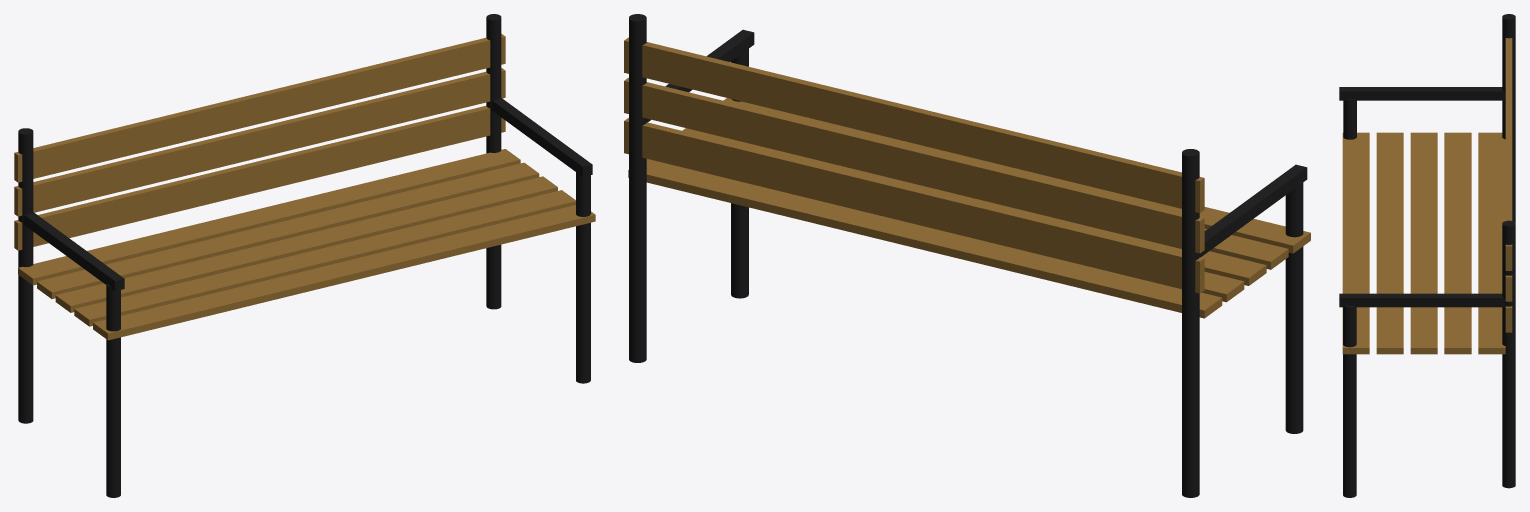
The model's file is state-default.glb.
3 views of the same model, side by side, from view 1: azimuth 30°, elevation 25°; view 2: azimuth 150°, elevation 25°; view 3: azimuth 270°, elevation 25° (orthographic). The views are drawn at different scales.
Parts seen in each view (by area): view 1: assetPrim:7c166d4a7b1fa-19c73e6b7ae:teak-slat-back-3, assetPrim:7c166d4a7b1fa-19c73e6b7ae:teak-slat-back-2, assetPrim:7c166d4a7b1fa-19c73e6b7ae:teak-slat-back-1, assetPrim:7c166d4a7b1fa-19c73e6b7ae:teak-slat-seat-1, assetPrim:7c166d4a7b1fa-19c73e6b7ae:teak-slat-seat-2, assetPrim:7c166d4a7b1fa-19c73e6b7ae:teak-slat-seat-3, assetPrim:7c166d4a7b1fa-19c73e6b7ae:teak-slat-seat-4, assetPrim:7c166d4a7b1fa-19c73e6b7ae:teak-slat-seat-5, assetPrim:7c166d4a7b1fa-19c73e6b7ae:iron-leg-bl, assetPrim:7c166d4a7b1fa-19c73e6b7ae:iron-leg-fl, assetPrim:7c166d4a7b1fa-19c73e6b7ae:bc2a76782b32a8-19c6fa116, assetPrim:7c166d4a7b1fa-19c73e6b7ae:iron-leg-br (+2 smaller); view 2: assetPrim:7c166d4a7b1fa-19c73e6b7ae:teak-slat-back-1, assetPrim:7c166d4a7b1fa-19c73e6b7ae:teak-slat-back-2, assetPrim:7c166d4a7b1fa-19c73e6b7ae:teak-slat-back-3, assetPrim:7c166d4a7b1fa-19c73e6b7ae:teak-slat-seat-5, assetPrim:7c166d4a7b1fa-19c73e6b7ae:iron-leg-br, assetPrim:7c166d4a7b1fa-19c73e6b7ae:iron-leg-bl, assetPrim:7c166d4a7b1fa-19c73e6b7ae:iron-leg-fl, assetPrim:7c166d4a7b1fa-19c73e6b7ae:teak-slat-seat-1, assetPrim:7c166d4a7b1fa-19c73e6b7ae:teak-slat-seat-3, assetPrim:7c166d4a7b1fa-19c73e6b7ae:armrest-l, assetPrim:7c166d4a7b1fa-19c73e6b7ae:bc2a76782b32a8-19c6fa116, assetPrim:7c166d4a7b1fa-19c73e6b7ae:teak-slat-seat-2 (+2 smaller); view 3: assetPrim:7c166d4a7b1fa-19c73e6b7ae:teak-slat-seat-4, assetPrim:7c166d4a7b1fa-19c73e6b7ae:teak-slat-seat-2, assetPrim:7c166d4a7b1fa-19c73e6b7ae:teak-slat-seat-3, assetPrim:7c166d4a7b1fa-19c73e6b7ae:teak-slat-seat-5, assetPrim:7c166d4a7b1fa-19c73e6b7ae:teak-slat-seat-1, assetPrim:7c166d4a7b1fa-19c73e6b7ae:iron-leg-br, assetPrim:7c166d4a7b1fa-19c73e6b7ae:bc2a76782b32a8-19c6fa116, assetPrim:7c166d4a7b1fa-19c73e6b7ae:armrest-r, assetPrim:7c166d4a7b1fa-19c73e6b7ae:armrest-l, assetPrim:7c166d4a7b1fa-19c73e6b7ae:teak-slat-back-3, assetPrim:7c166d4a7b1fa-19c73e6b7ae:iron-leg-bl, assetPrim:7c166d4a7b1fa-19c73e6b7ae:iron-leg-fl (+2 smaller).
Part boxes in pixels (left/top/right/bottom): assetPrim:7c166d4a7b1fa-19c73e6b7ae:teak-slat-back-3: left=14, top=34, right=505, bottom=182; assetPrim:7c166d4a7b1fa-19c73e6b7ae:teak-slat-back-2: left=14, top=68, right=505, bottom=216; assetPrim:7c166d4a7b1fa-19c73e6b7ae:teak-slat-back-1: left=14, top=105, right=505, bottom=250; assetPrim:7c166d4a7b1fa-19c73e6b7ae:teak-slat-seat-1: left=93, top=205, right=595, bottom=340; assetPrim:7c166d4a7b1fa-19c73e6b7ae:teak-slat-seat-2: left=74, top=190, right=575, bottom=326; assetPrim:7c166d4a7b1fa-19c73e6b7ae:teak-slat-seat-3: left=55, top=176, right=557, bottom=312; assetPrim:7c166d4a7b1fa-19c73e6b7ae:teak-slat-seat-4: left=37, top=162, right=539, bottom=298; assetPrim:7c166d4a7b1fa-19c73e6b7ae:teak-slat-seat-5: left=18, top=149, right=520, bottom=285; assetPrim:7c166d4a7b1fa-19c73e6b7ae:iron-leg-bl: left=18, top=128, right=33, bottom=423; assetPrim:7c166d4a7b1fa-19c73e6b7ae:iron-leg-fl: left=106, top=283, right=120, bottom=497; assetPrim:7c166d4a7b1fa-19c73e6b7ae:bc2a76782b32a8-19c6fa116: left=576, top=171, right=590, bottom=383; assetPrim:7c166d4a7b1fa-19c73e6b7ae:iron-leg-br: left=486, top=14, right=501, bottom=309; assetPrim:7c166d4a7b1fa-19c73e6b7ae:teak-slat-back-1: left=624, top=118, right=1204, bottom=293; assetPrim:7c166d4a7b1fa-19c73e6b7ae:teak-slat-back-2: left=624, top=77, right=1204, bottom=253; assetPrim:7c166d4a7b1fa-19c73e6b7ae:teak-slat-back-3: left=624, top=37, right=1204, bottom=213; assetPrim:7c166d4a7b1fa-19c73e6b7ae:teak-slat-seat-5: left=628, top=159, right=1222, bottom=318; assetPrim:7c166d4a7b1fa-19c73e6b7ae:iron-leg-br: left=629, top=14, right=646, bottom=362; assetPrim:7c166d4a7b1fa-19c73e6b7ae:iron-leg-bl: left=1182, top=149, right=1199, bottom=497; assetPrim:7c166d4a7b1fa-19c73e6b7ae:iron-leg-fl: left=1285, top=181, right=1303, bottom=433; assetPrim:7c166d4a7b1fa-19c73e6b7ae:teak-slat-seat-1: left=723, top=98, right=1310, bottom=253; assetPrim:7c166d4a7b1fa-19c73e6b7ae:teak-slat-seat-3: left=682, top=128, right=1266, bottom=285; assetPrim:7c166d4a7b1fa-19c73e6b7ae:armrest-l: left=1199, top=164, right=1307, bottom=257; assetPrim:7c166d4a7b1fa-19c73e6b7ae:bc2a76782b32a8-19c6fa116: left=731, top=47, right=748, bottom=298; assetPrim:7c166d4a7b1fa-19c73e6b7ae:teak-slat-seat-2: left=1204, top=228, right=1288, bottom=269; assetPrim:7c166d4a7b1fa-19c73e6b7ae:teak-slat-seat-4: left=1444, top=132, right=1471, bottom=354; assetPrim:7c166d4a7b1fa-19c73e6b7ae:teak-slat-seat-2: left=1376, top=132, right=1403, bottom=354; assetPrim:7c166d4a7b1fa-19c73e6b7ae:teak-slat-seat-3: left=1410, top=132, right=1437, bottom=354; assetPrim:7c166d4a7b1fa-19c73e6b7ae:teak-slat-seat-5: left=1478, top=132, right=1505, bottom=354; assetPrim:7c166d4a7b1fa-19c73e6b7ae:teak-slat-seat-1: left=1342, top=132, right=1369, bottom=354; assetPrim:7c166d4a7b1fa-19c73e6b7ae:iron-leg-br: left=1502, top=220, right=1515, bottom=488; assetPrim:7c166d4a7b1fa-19c73e6b7ae:bc2a76782b32a8-19c6fa116: left=1343, top=306, right=1356, bottom=497; assetPrim:7c166d4a7b1fa-19c73e6b7ae:armrest-r: left=1339, top=293, right=1504, bottom=307; assetPrim:7c166d4a7b1fa-19c73e6b7ae:armrest-l: left=1339, top=87, right=1504, bottom=100; assetPrim:7c166d4a7b1fa-19c73e6b7ae:teak-slat-back-3: left=1505, top=38, right=1512, bottom=270; assetPrim:7c166d4a7b1fa-19c73e6b7ae:iron-leg-bl: left=1502, top=14, right=1515, bottom=222; assetPrim:7c166d4a7b1fa-19c73e6b7ae:iron-leg-fl: left=1343, top=99, right=1356, bottom=139.
Size of the model in its own units: 1.5 by 0.8797 by 0.52.
